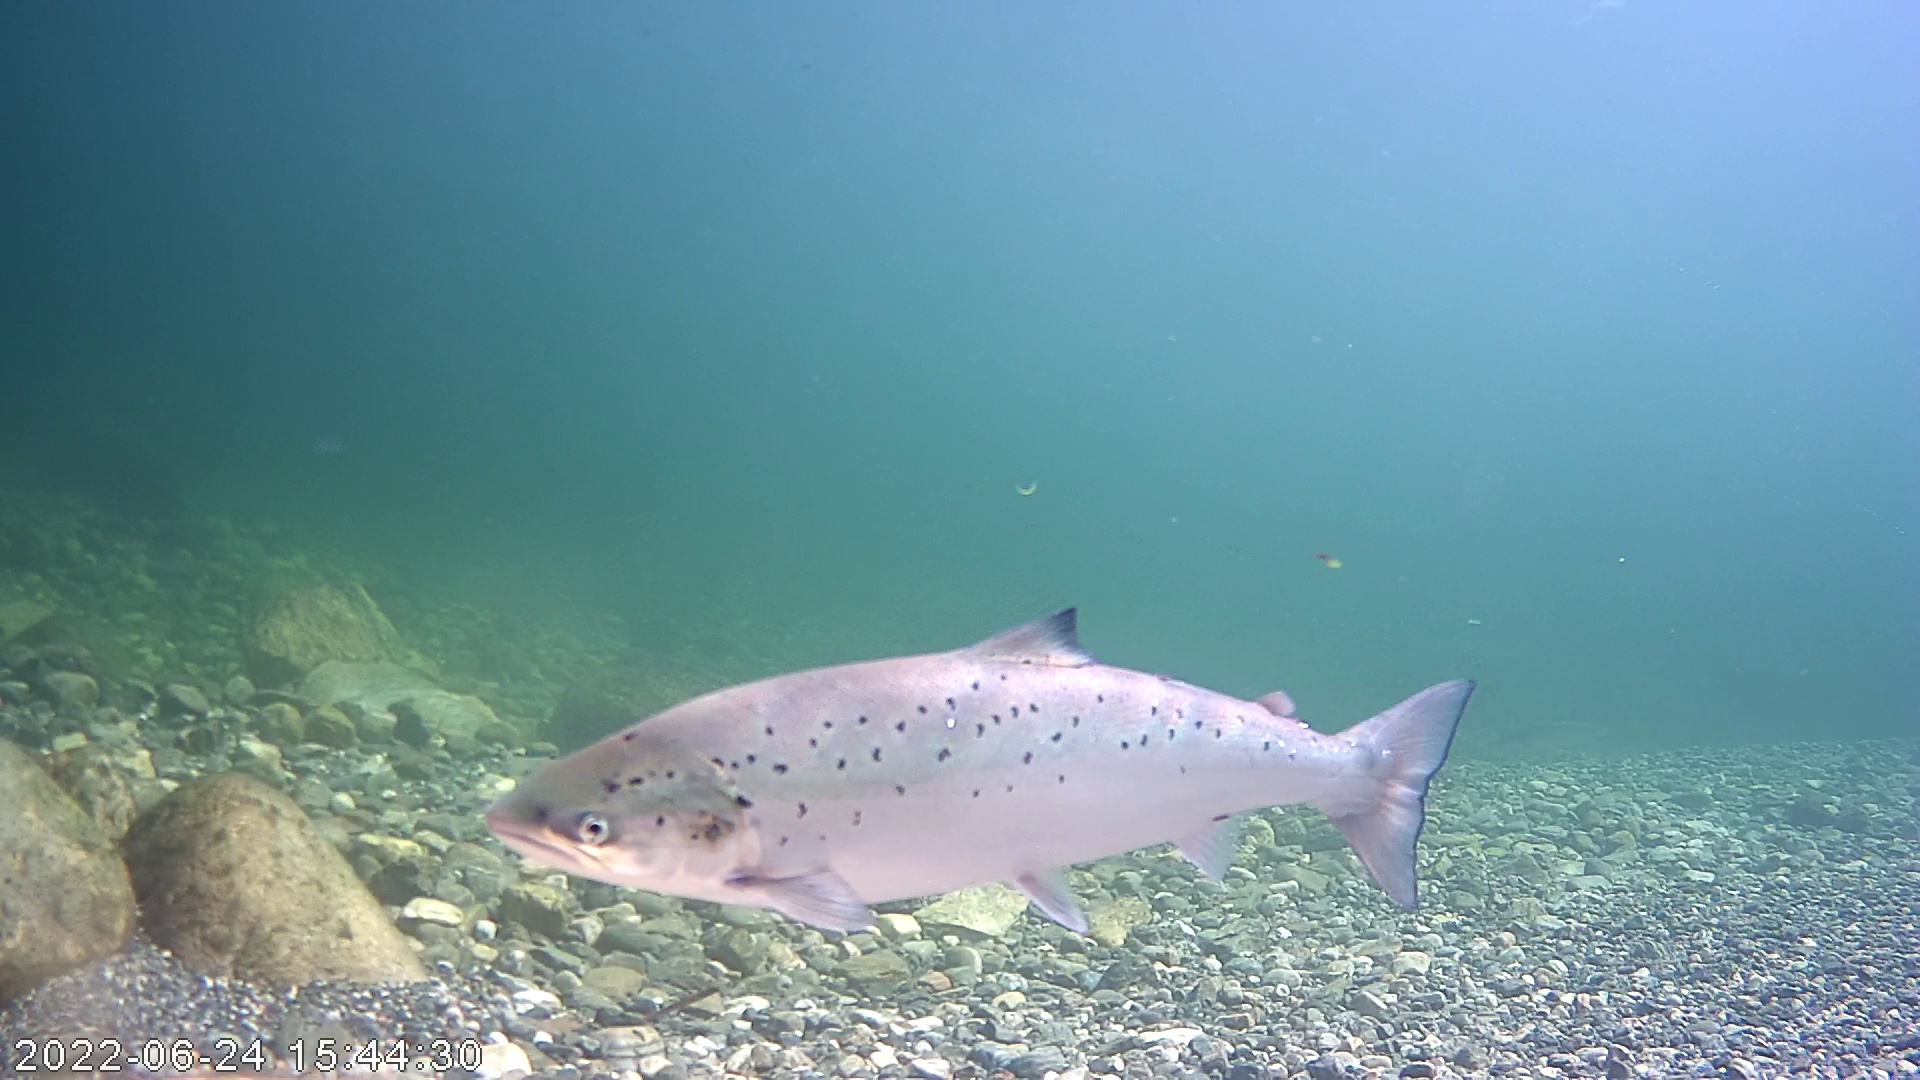salmon: (483, 604, 1478, 938)
